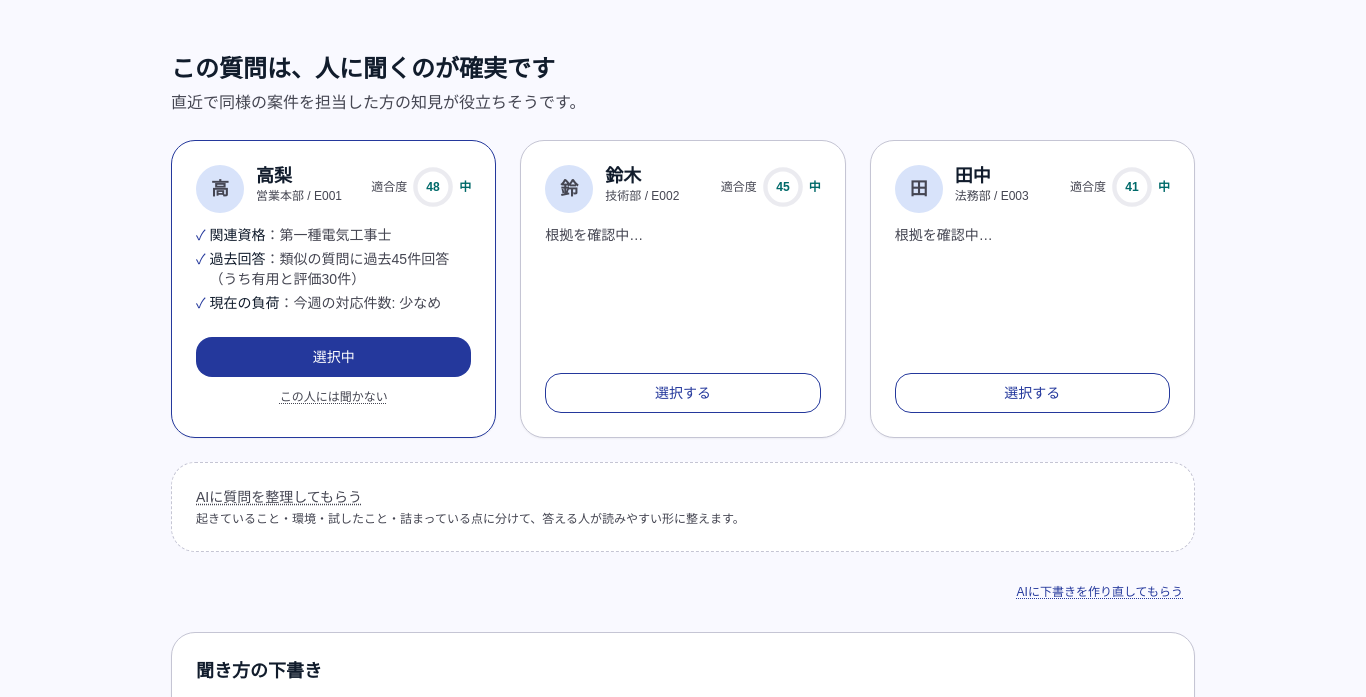
it: ResultScreen — main line (person) › lets the asker pick any of the three candidates as the recipient (#200/#A1/#204/#C4)
expect the button "選択中" is shown: met, box [196,337,471,377]
Click the button "選択する" below "技術部 / E002" at {"x": 683, "y": 393}, box [545,373,821,413]
(page scrolled)
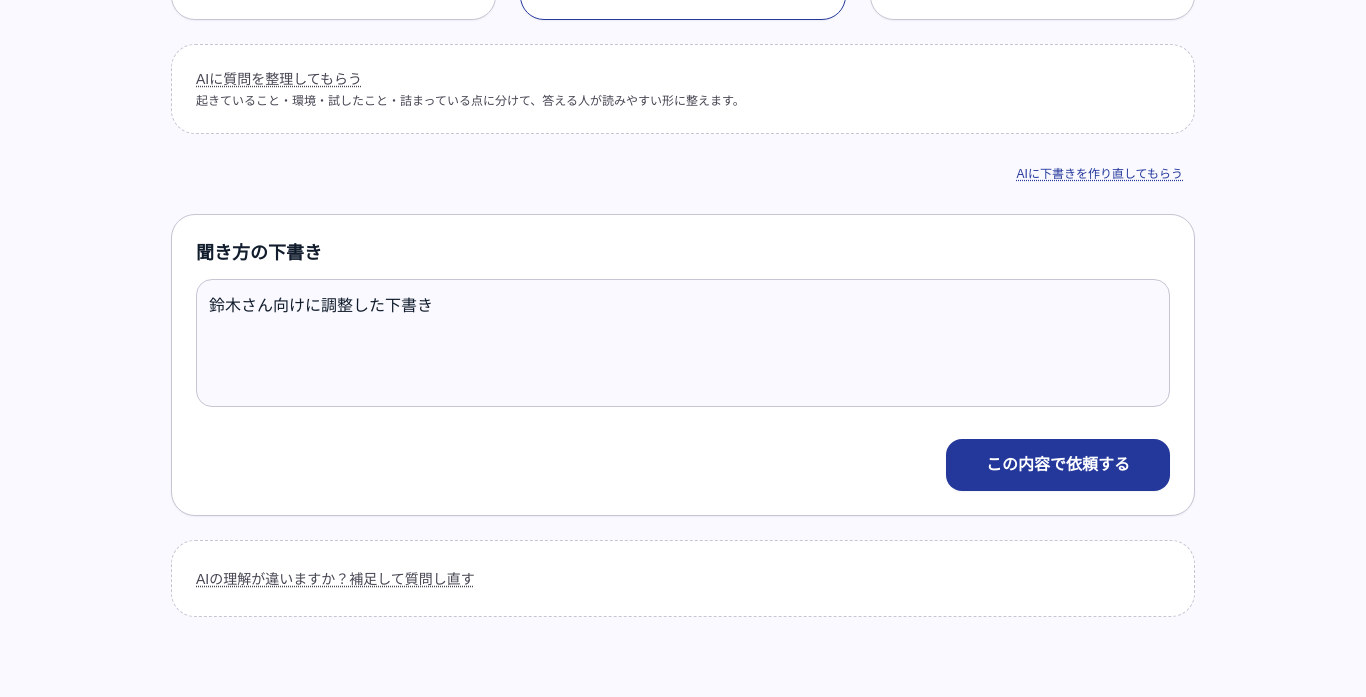
expect the text box named "聞き方の下書き" holds "鈴木さん向けに調整した下書き": met, box [196,279,1170,407]
# The send confirmation now names the selected candidate, not the original top pick.
Click the button "この内容で依頼する" at {"x": 1058, "y": 465}, box [946,439,1170,491]
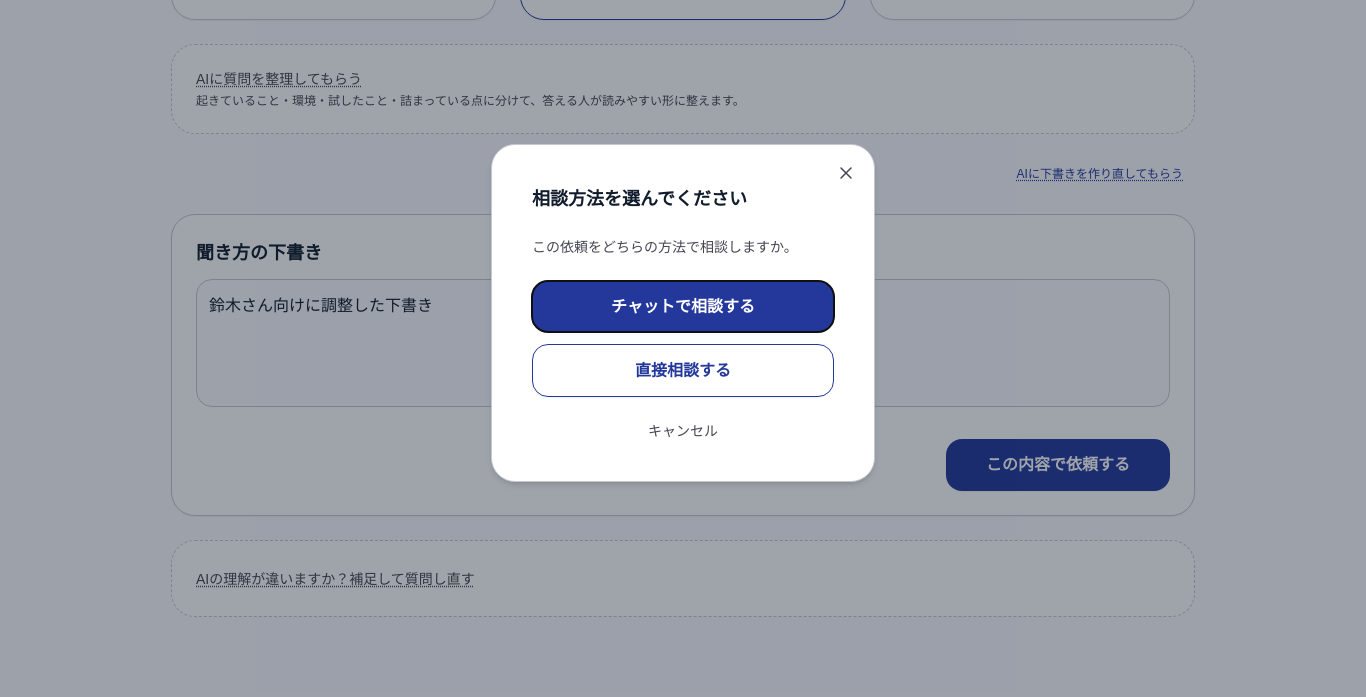
# Sending now goes through the consultation-method popup (#245).
Click the button "チャットで相談する" at {"x": 683, "y": 306}, box [532,281,834,332]
(page scrolled)
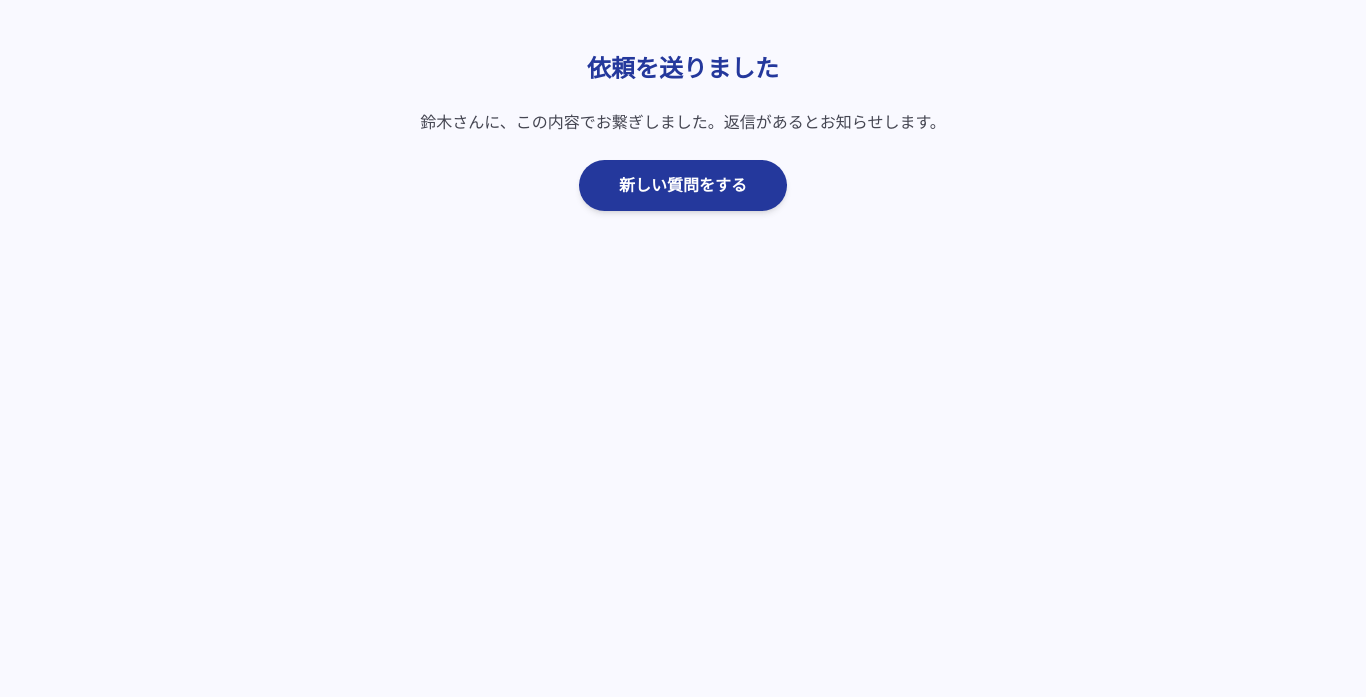
expect the text "鈴木さんに、この内容でお繋ぎしました。返信があるとお知らせします。" is shown: met, box [420,114,946,131]
